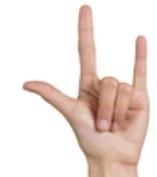back: (22, 5, 153, 148)
